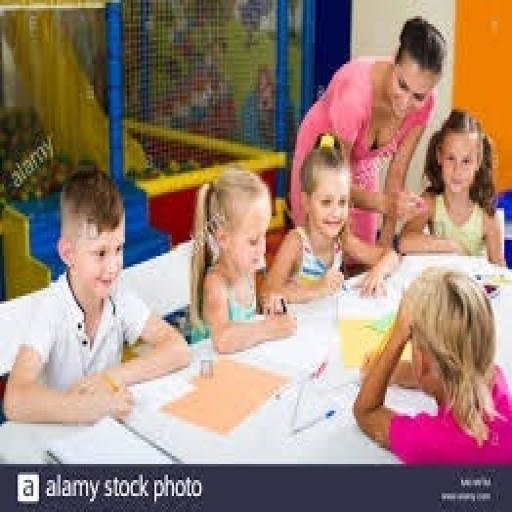sitting: (0, 162, 192, 426), (288, 13, 448, 267), (350, 261, 510, 464), (258, 130, 399, 306), (186, 165, 299, 355), (395, 106, 506, 266)
